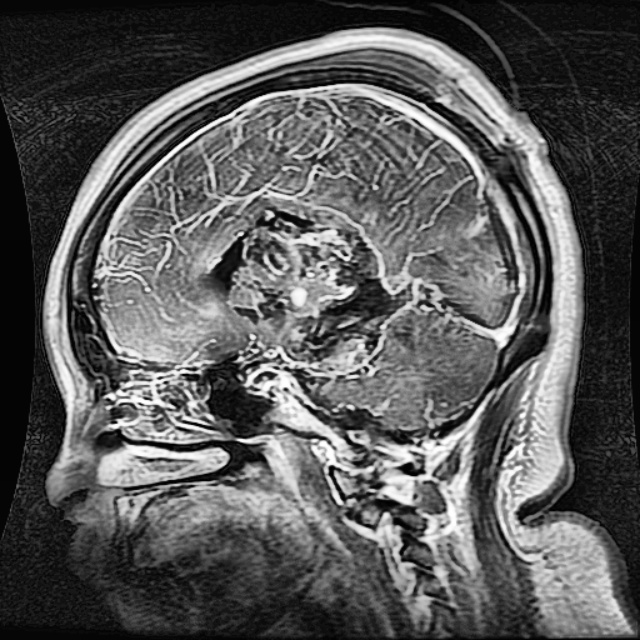Meningioma: (204, 207, 440, 378)
